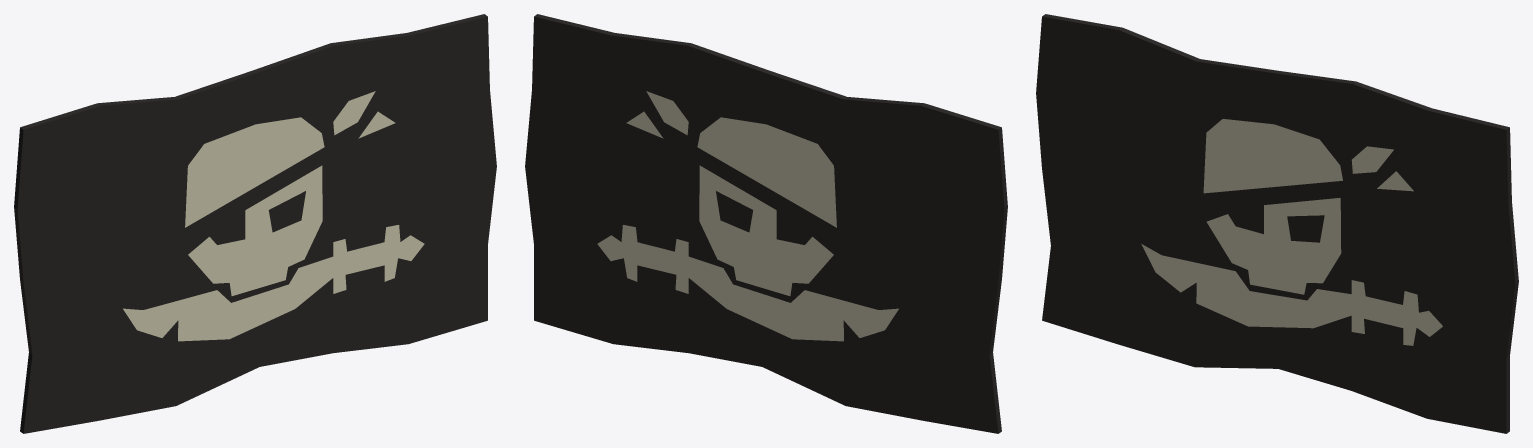
File: Flag_4.fbx
The picture shows the model from 3 angles, left to right: view 1: azimuth 30°, elevation 25°; view 2: azimuth 150°, elevation 25°; view 3: azimuth 330°, elevation 25°; orthographic projection.
Parts seen in each view (by area): view 1: Flag_4; view 2: Flag_4; view 3: Flag_4.
Part boxes in pixels (x1,y1,x2,y2): Flag_4: [14, 14, 496, 433]; Flag_4: [525, 14, 1007, 433]; Flag_4: [1036, 14, 1518, 433].
Size of the model in its own units: 235 by 151 by 3.
